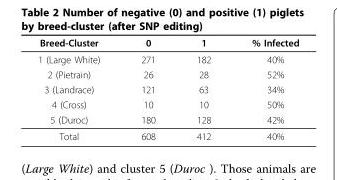table: (37, 36, 298, 141)
table column: (37, 36, 119, 141), (230, 36, 298, 141), (119, 36, 175, 141), (175, 36, 230, 141)
table column header: (37, 36, 298, 50)
table row: (37, 50, 298, 66), (37, 111, 298, 127), (37, 66, 298, 81), (37, 81, 298, 96), (37, 96, 298, 111), (37, 36, 298, 50), (37, 127, 298, 141)
